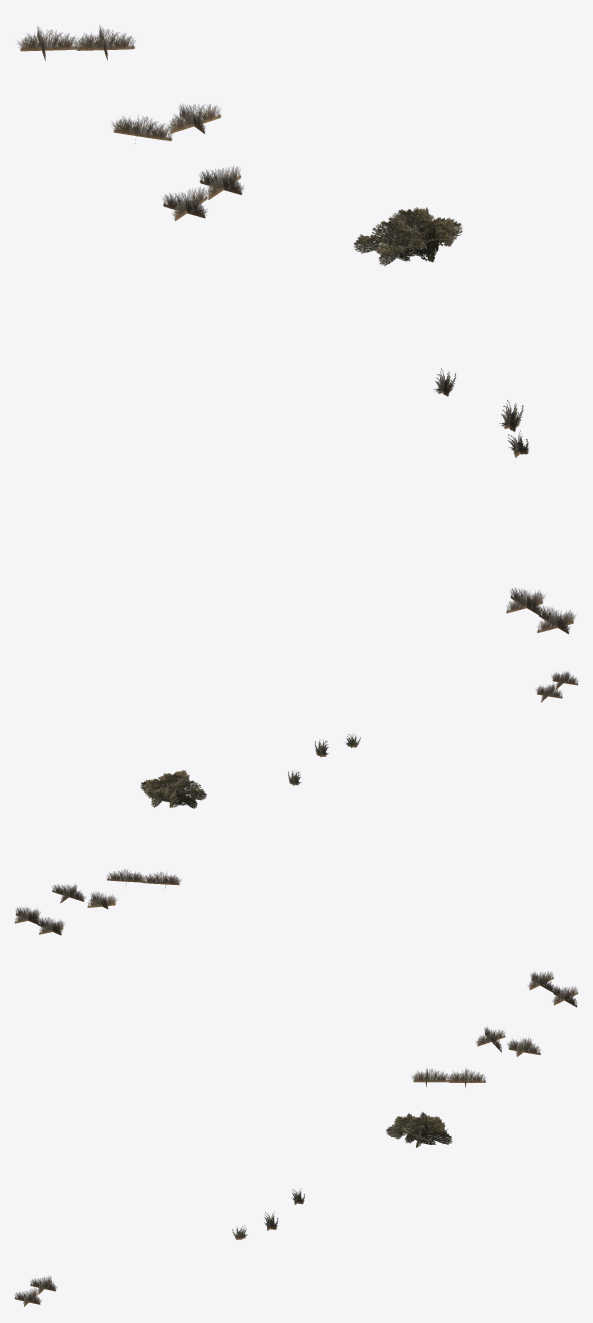
File: 0706worlddeserttransparent_worlddeserttransparentmaterial_0_lev.glb
3 renders of one model, top to bottom at view 1: azimuth 30°, elevation 25°; view 2: azimuth 150°, elevation 25°; view 3: azimuth 330°, elevation 25°, orthographic. The views are drawn at different scales.
Parts seen in each view (by area): view 1: 0706worlddeserttransparent_worlddeserttransparentmaterial_0_; view 2: 0706worlddeserttransparent_worlddeserttransparentmaterial_0_; view 3: 0706worlddeserttransparent_worlddeserttransparentmaterial_0_.
Boxes of the visible parts, x1=… form: 0706worlddeserttransparent_worlddeserttransparentmaterial_0_: x1=17, y1=25, x2=576, y2=634; 0706worlddeserttransparent_worlddeserttransparentmaterial_0_: x1=14, y1=671, x2=578, y2=935; 0706worlddeserttransparent_worlddeserttransparentmaterial_0_: x1=14, y1=971, x2=578, y2=1306.
Bounding box in the file's own units: 7.77 × 1.97 × 28.55.
1 material, 1 textured.
